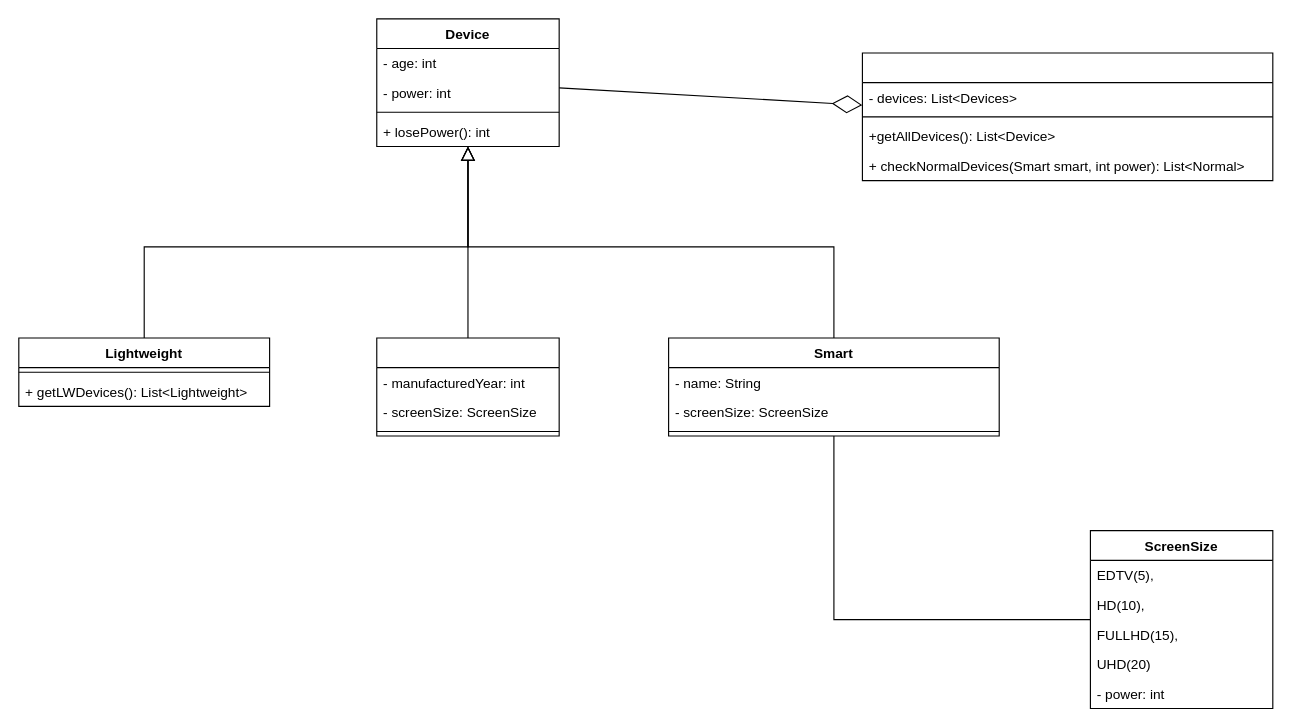
Some shapes in this 1292 by 727 pixel diagram are drawn without their labels. The shapes that lost their labels are listed below. From the top down, each one's box as (x1, y1, x2, y2) in pixels, then its label:
(861, 52, 1273, 181): Network
(376, 337, 559, 436): Normal
